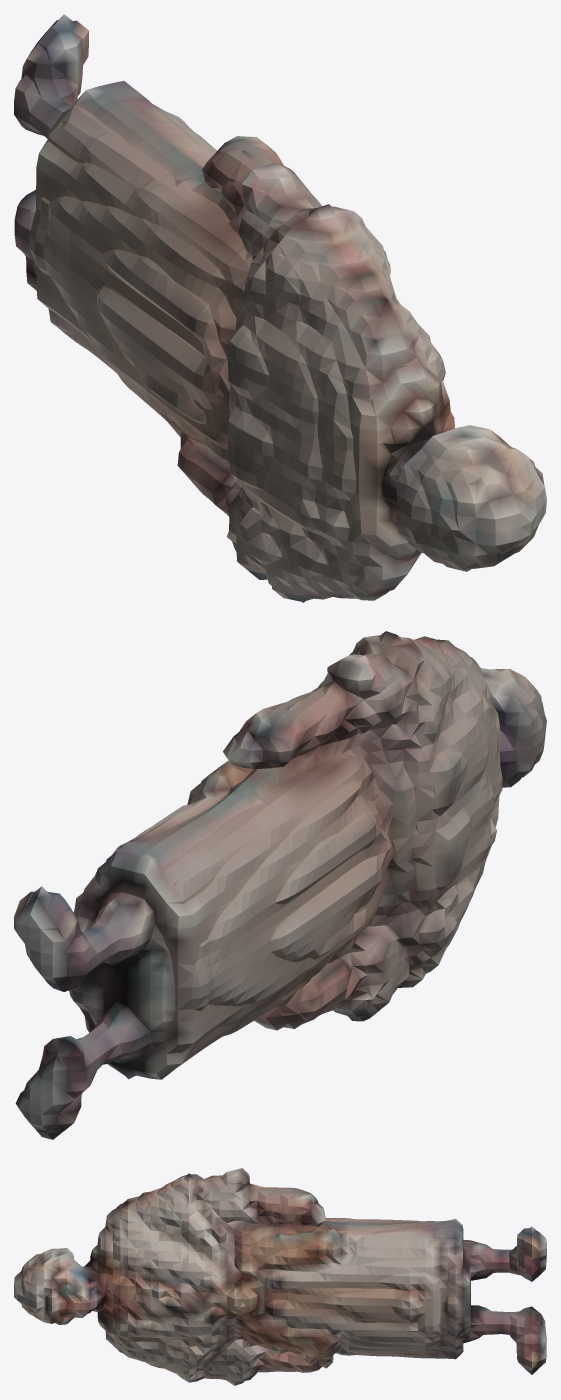
The model's file is ancient_merchant_m_0.glb.
3 renders of one model, top to bottom at view 1: azimuth 30°, elevation 25°; view 2: azimuth 150°, elevation 25°; view 3: azimuth 270°, elevation 25°, orthographic. The views are drawn at different scales.
Parts seen in each view (by area): view 1: world; view 2: world; view 3: world.
Part boxes in pixels (x1,y1,x2,y2): world: (14, 14, 546, 602); world: (14, 631, 546, 1139); world: (14, 1168, 546, 1385).
Bounding box in the file's own units: 0.2297 × 0.4237 × 0.9583.
